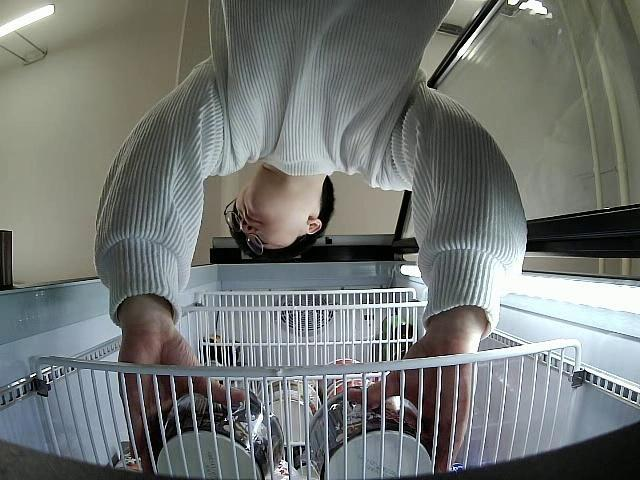07_buldak_L: (154, 391, 284, 480), (306, 391, 433, 480)
